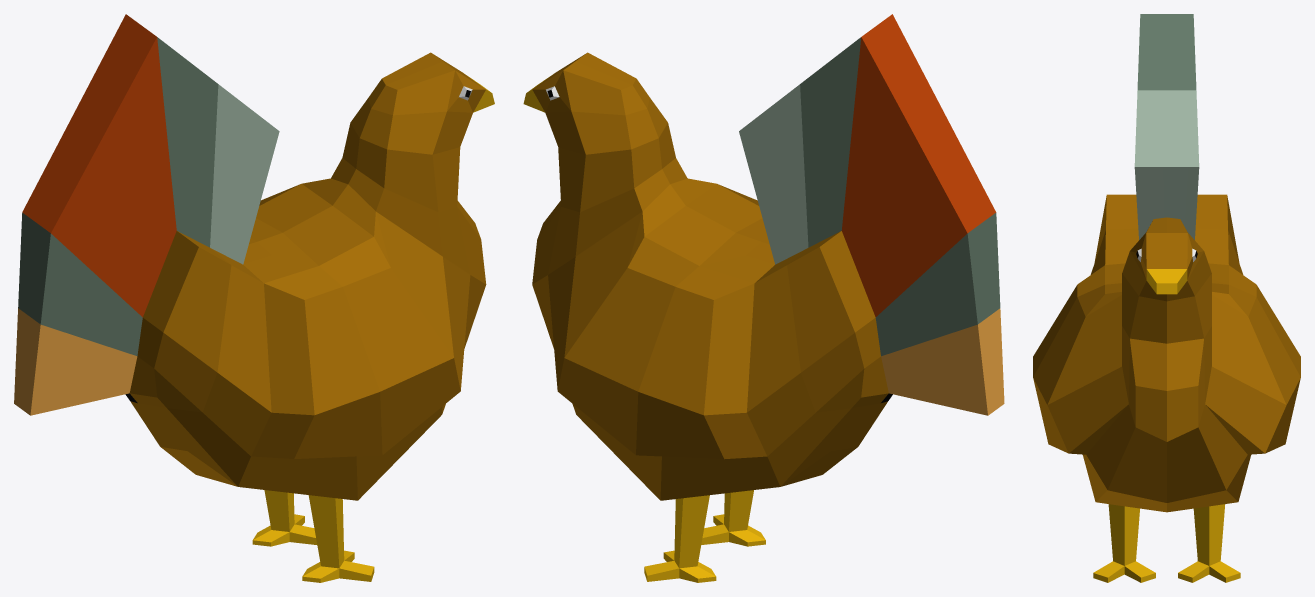
File: cock.fbx
3 renders of one model, left to right at view 1: azimuth 30°, elevation 25°; view 2: azimuth 150°, elevation 25°; view 3: azimuth 270°, elevation 25°, orthographic. The views are drawn at different scales.
Parts seen in each view (by area): view 1: Cube.001, Cube.002, Cube.003; view 2: Cube.001, Cube.003, Cube.002; view 3: Cube.001, Cube.002, Cube.003.
Part boxes in pixels (x1,y1,x2,y2): Cube.001: [14, 14, 494, 500]; Cube.002: [302, 495, 374, 582]; Cube.003: [252, 490, 317, 546]; Cube.001: [523, 14, 1004, 500]; Cube.003: [644, 495, 716, 582]; Cube.002: [701, 490, 765, 546]; Cube.001: [1033, 14, 1300, 512]; Cube.002: [1093, 504, 1155, 582]; Cube.003: [1178, 504, 1240, 582].
Bounding box in the file's own units: 466 × 544 × 271.
